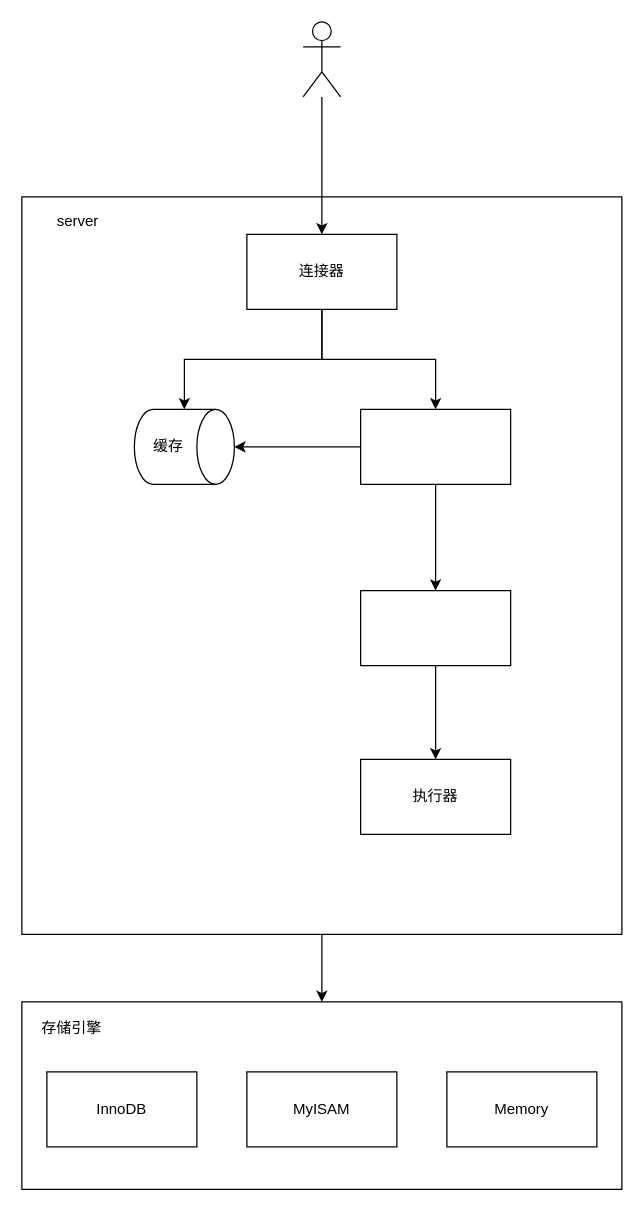
Image size: 644x1211. Some labels were removed from this diagram. Here are the shapes that lost their labels. From the top down, the centre of each, then its label:
At point (321, 59): "Actor".
At point (435, 446): "分析器".
At point (435, 627): "优化器".
